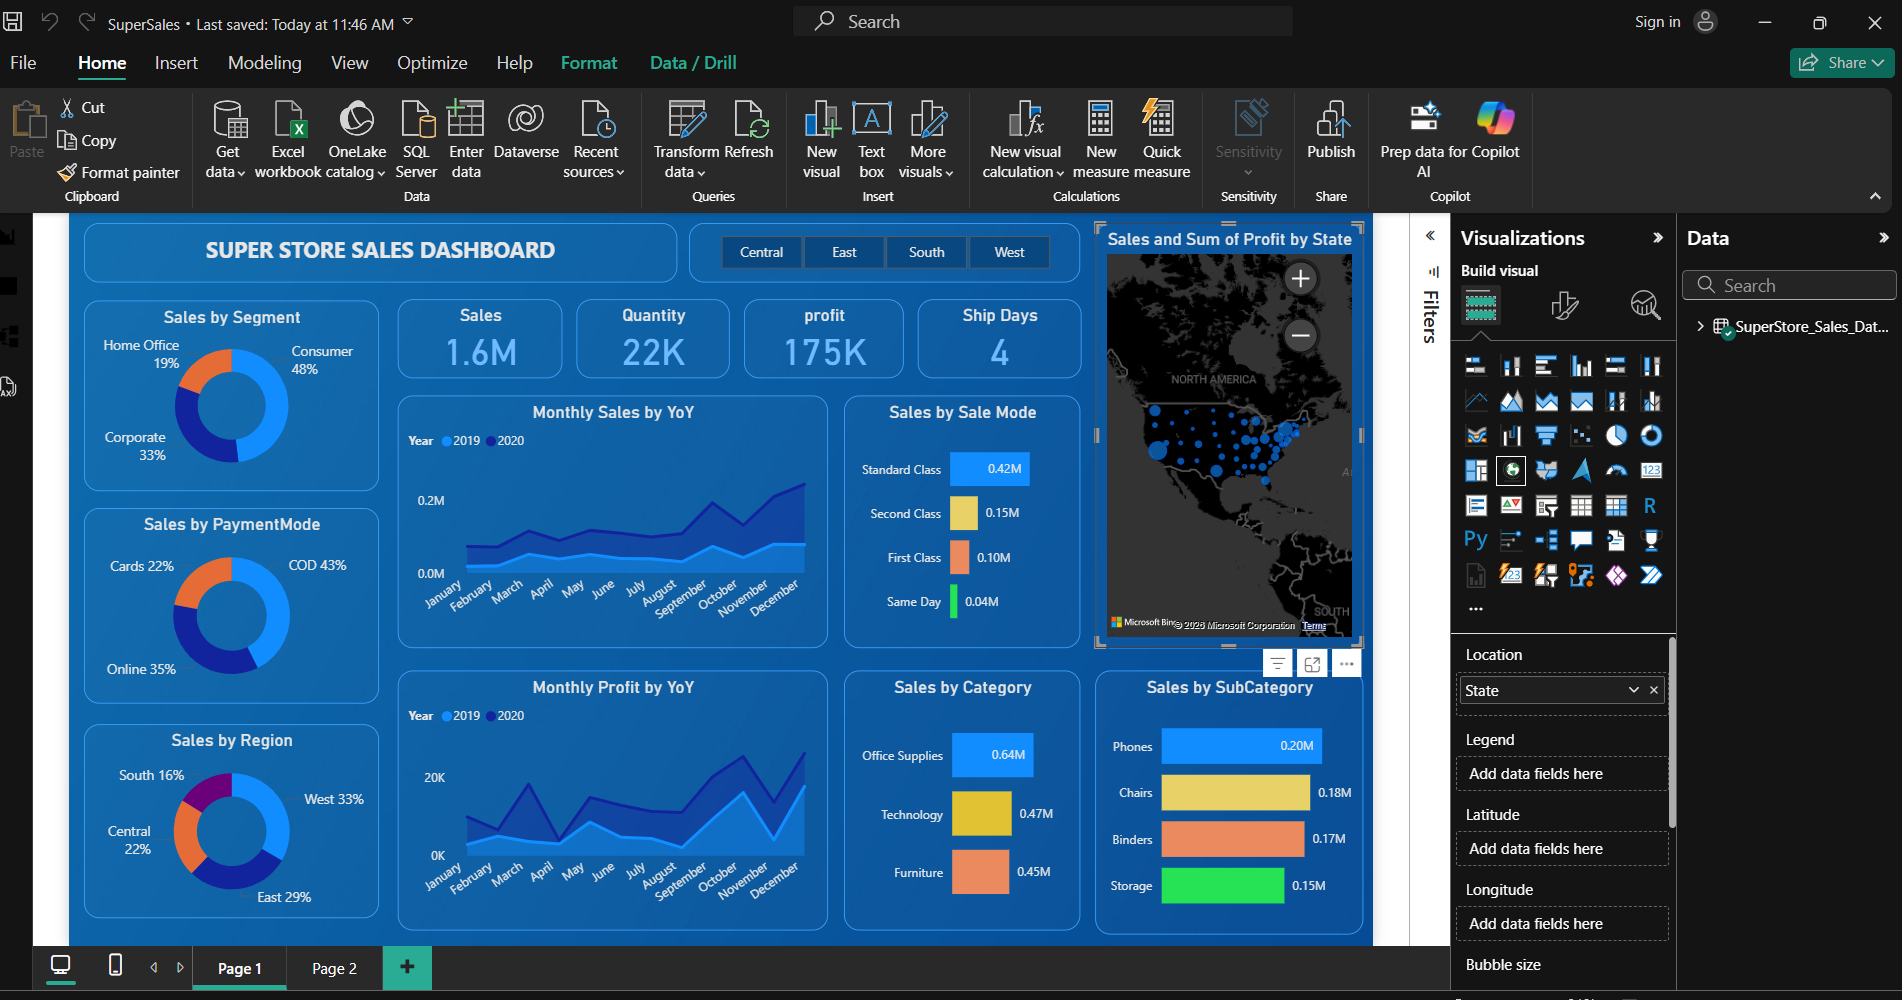

The page's visual inventory and layout, read from the dashboard file:
{"tool":"powerbi","page":{"name":"Page 1","canvas":[1280,720],"ordinal":0},"visuals":[{"type":"clusteredBarChart","title":"Sales by Category","fields":{"Category":["SuperStore_Sales_Dataset.Category"],"Y":["Sum(SuperStore_Sales_Dataset.Sales)"]},"box":[760.5,449.4,232.1,255.6],"z":0},{"type":"clusteredBarChart","title":"Sales by SubCategory","fields":{"Y":["Sum(SuperStore_Sales_Dataset.Sales)"],"Category":["SuperStore_Sales_Dataset.Sub-Category"]},"box":[1007.4,449.4,263,259.3],"z":1000},{"type":"clusteredBarChart","title":"Sales by Sale Mode","fields":{"Y":["Sum(SuperStore_Sales_Dataset.Sales)"],"Category":["SuperStore_Sales_Dataset.Ship Mode"]},"box":[760.5,179,232.1,248.1],"z":2000},{"type":"stackedAreaChart","title":"Monthly Sales by YoY","fields":{"Y":["Sum(SuperStore_Sales_Dataset.Sales)"],"Category":["SuperStore_Sales_Dataset.Order Date.Variation.Date Hierarchy.Month"],"Series":["SuperStore_Sales_Dataset.Order Date.Variation.Date Hierarchy.Year"]},"box":[322.2,179,422.2,248.1],"z":3000},{"type":"stackedAreaChart","title":"Monthly Profit by YoY","fields":{"Category":["SuperStore_Sales_Dataset.Order Date.Variation.Date Hierarchy.Month"],"Series":["SuperStore_Sales_Dataset.Order Date.Variation.Date Hierarchy.Year"],"Y":["Sum(SuperStore_Sales_Dataset.Profit)"]},"box":[322.2,449.4,422.2,255.6],"z":4000},{"type":"map","title":"Sales and Sum of Profit by State","fields":{"Category":["SuperStore_Sales_Dataset.State"],"Size":["Sum(SuperStore_Sales_Dataset.Sales)"]},"box":[1007.4,9.9,263,417.3],"z":5000},{"type":"donutChart","title":"Sales by Segment","fields":{"Category":["SuperStore_Sales_Dataset.Segment"],"Y":["Sum(SuperStore_Sales_Dataset.Sales)"]},"box":[14.5,85.7,289.5,187],"z":6000},{"type":"donutChart","title":"Sales by PaymentMode","fields":{"Y":["Sum(SuperStore_Sales_Dataset.Sales)"],"Category":["SuperStore_Sales_Dataset.Payment Mode"]},"box":[14.5,289.5,289.5,191.8],"z":7000},{"type":"donutChart","title":"Sales by Region","fields":{"Y":["Sum(SuperStore_Sales_Dataset.Sales)"],"Category":["SuperStore_Sales_Dataset.Region"]},"box":[14.5,501.9,289.5,190.6],"z":8000},{"type":"slicer","fields":{"Values":["SuperStore_Sales_Dataset.Region"]},"box":[608.6,9.9,384,58],"z":9000},{"type":"textbox","box":[14.8,9.9,582.7,58],"z":10000},{"type":"card","title":"Sales","fields":{"Values":["Sum(SuperStore_Sales_Dataset.Sales)"]},"box":[322.2,85.2,161.7,77.8],"z":11000},{"type":"card","title":"Quantity","fields":{"Values":["Sum(SuperStore_Sales_Dataset.Quantity)"]},"box":[498.8,85.2,150.6,77.8],"z":12000},{"type":"card","title":"profit","fields":{"Values":["Sum(SuperStore_Sales_Dataset.Profit)"]},"box":[663,85.2,156.8,77.8],"z":13000},{"type":"card","title":"Ship Days","fields":{"Values":["Avg(SuperStore_Sales_Dataset.AvgDelivery)"]},"box":[833.3,85.2,160.5,77.8],"z":14000}]}

Visuals, with their boxes on the page's 1280x720 design canvas (x1, y1, x2, y2). These are canvas units, not pixel positions in the 1902x1000 screenshot, which may show the page scaled, cropped or inside an application window:
"Sales by Category" clusteredBarChart: bbox=(760, 449, 993, 705)
"Sales by SubCategory" clusteredBarChart: bbox=(1007, 449, 1270, 709)
"Sales by Sale Mode" clusteredBarChart: bbox=(760, 179, 993, 427)
"Monthly Sales by YoY" stackedAreaChart: bbox=(322, 179, 744, 427)
"Monthly Profit by YoY" stackedAreaChart: bbox=(322, 449, 744, 705)
"Sales and Sum of Profit by State" map: bbox=(1007, 10, 1270, 427)
"Sales by Segment" donutChart: bbox=(14, 86, 304, 273)
"Sales by PaymentMode" donutChart: bbox=(14, 290, 304, 481)
"Sales by Region" donutChart: bbox=(14, 502, 304, 692)
slicer - SuperStore_Sales_Dataset.Region: bbox=(609, 10, 993, 68)
textbox: bbox=(15, 10, 598, 68)
"Sales" card: bbox=(322, 85, 484, 163)
"Quantity" card: bbox=(499, 85, 649, 163)
"profit" card: bbox=(663, 85, 820, 163)
"Ship Days" card: bbox=(833, 85, 994, 163)
